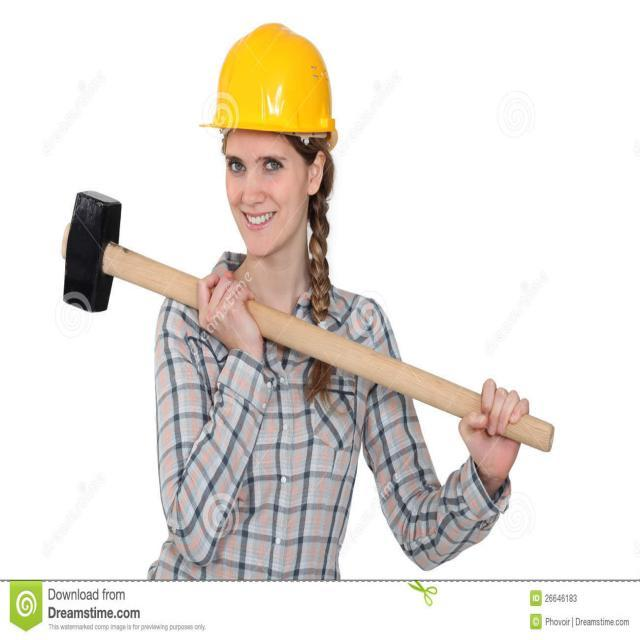hammer: (51, 182, 556, 458)
